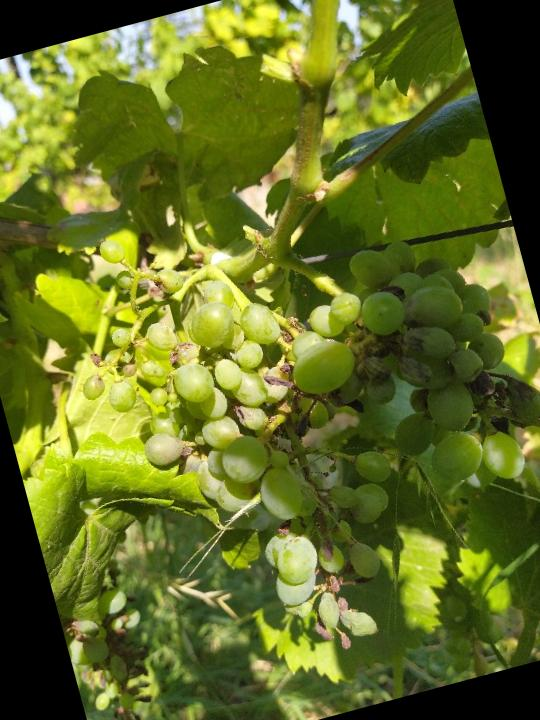grape: (44, 147, 540, 699)
